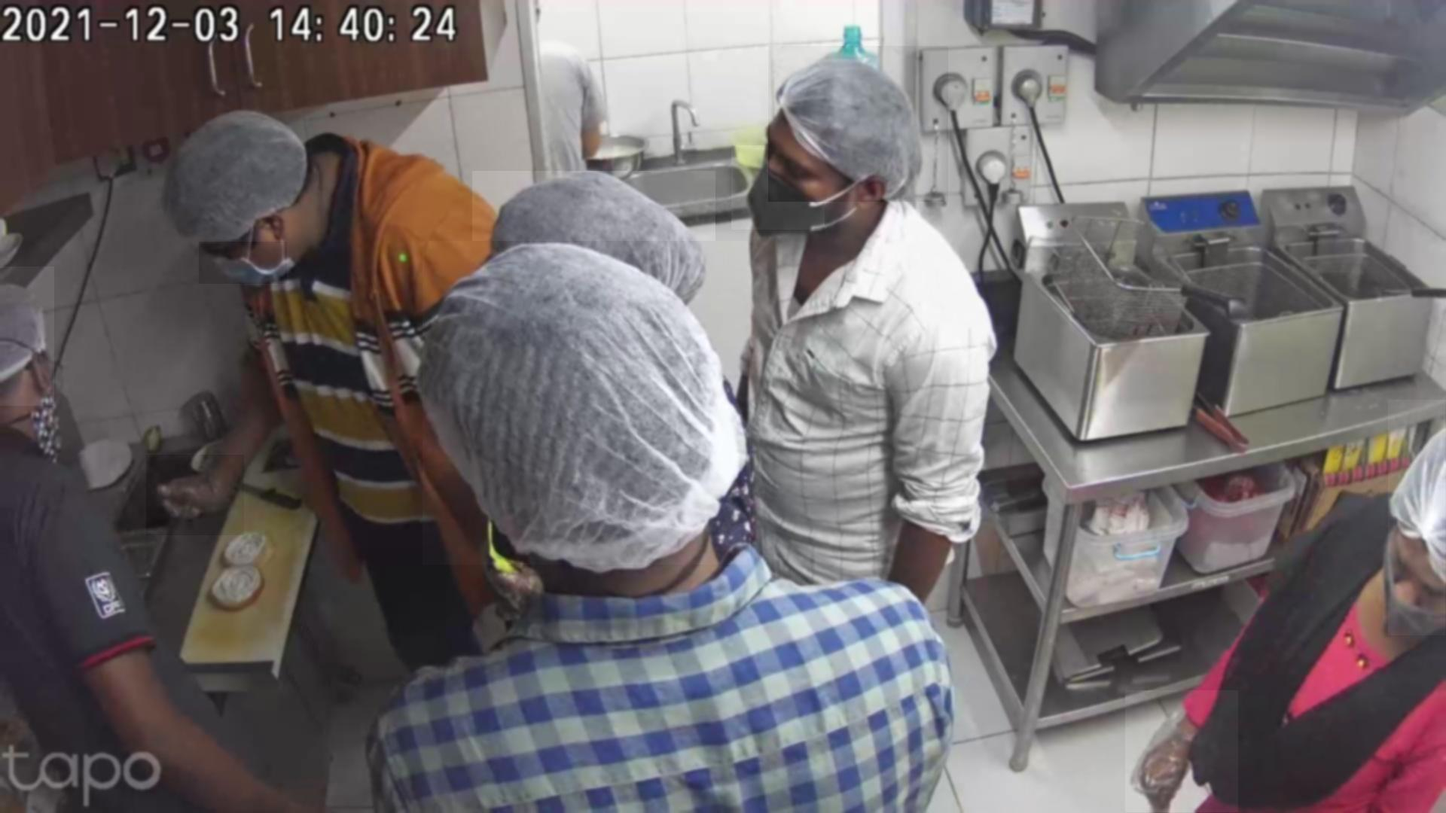apron: (1126, 691, 1239, 813), (146, 455, 244, 535)
gloves: (423, 242, 751, 565), (473, 172, 716, 304), (769, 46, 949, 202), (144, 106, 316, 254), (1388, 400, 1446, 635), (0, 267, 54, 406)
hairnet: (1383, 545, 1437, 619)
mask: (731, 146, 825, 230), (199, 242, 287, 284)
